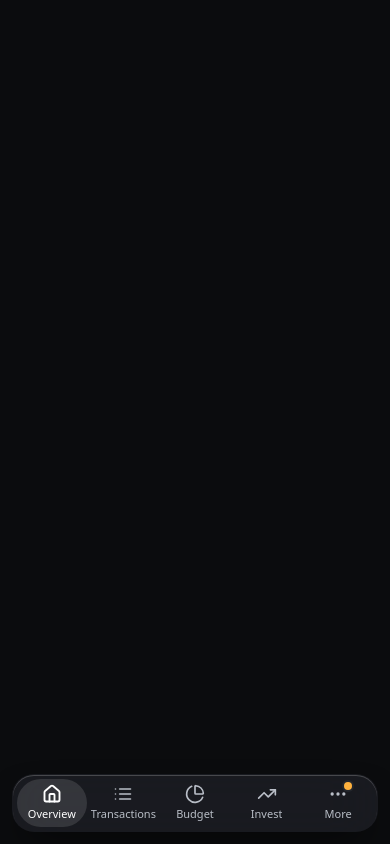
MobileNav › dots More when the sync needs attention, so it's seen without opening the sheet
Step 1. Click the button named "More, Synced · 1 bank needs attention" → click(338, 803), box [303, 779, 373, 827]
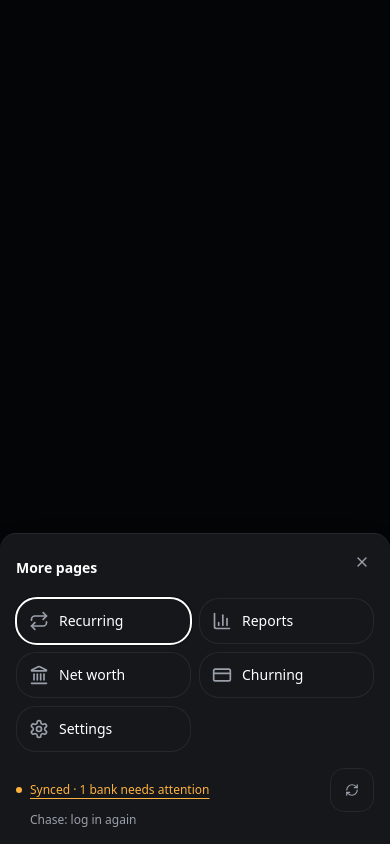
expect the text "Chase: log in again" is shown: met, box [30, 811, 136, 828]
